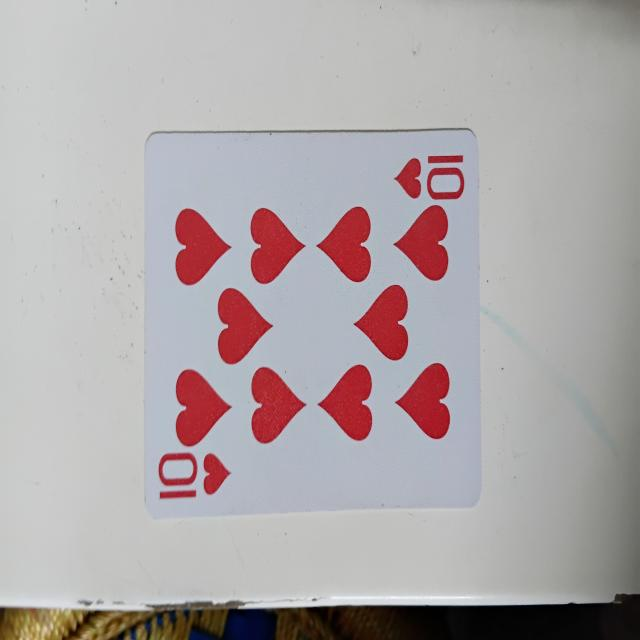10H: (143, 123, 480, 518)
